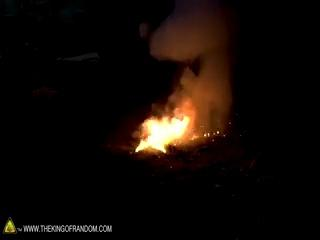Fire: (129, 100, 192, 157)
